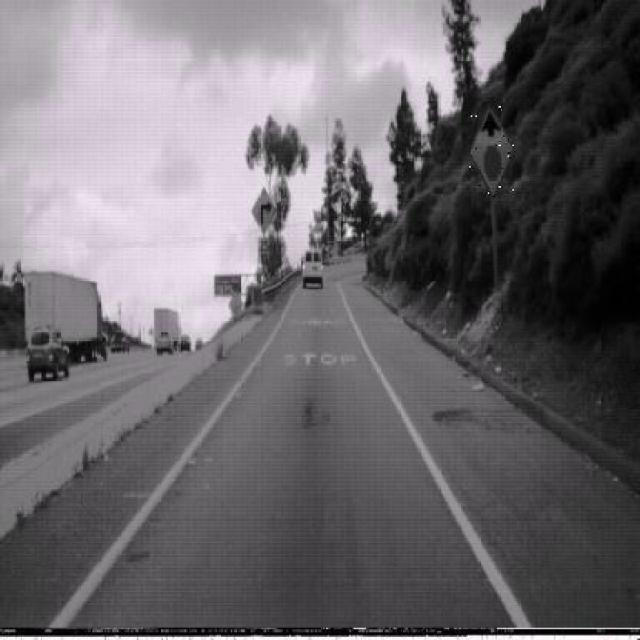stopAhead: (468, 106, 515, 199)
